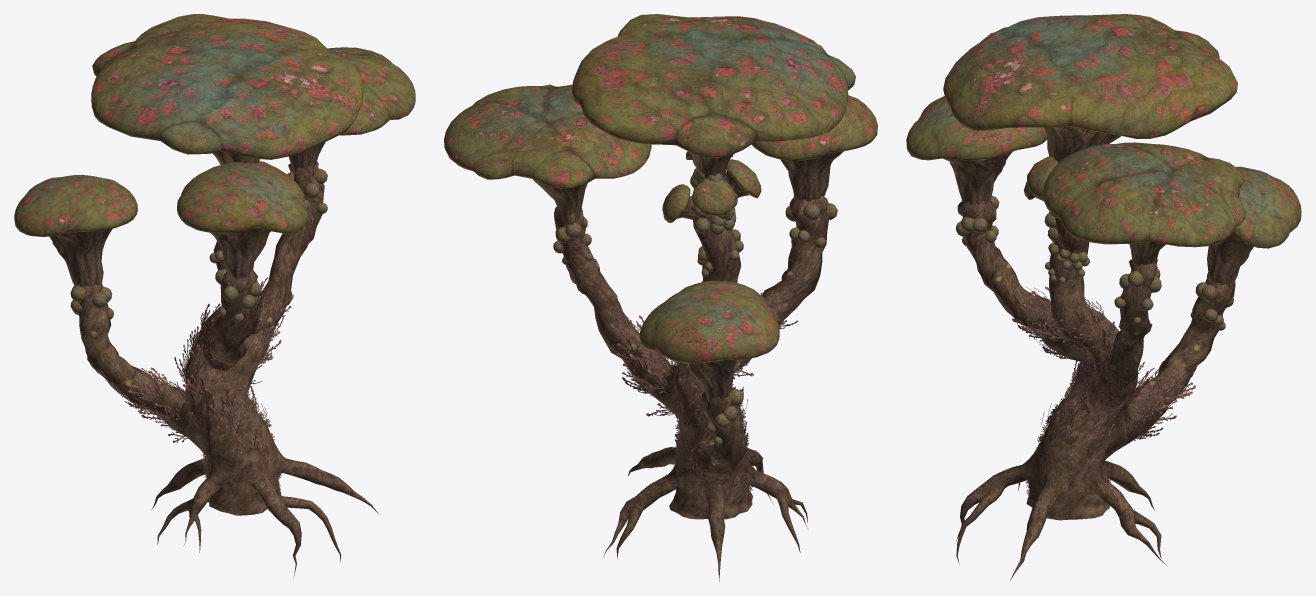
File: Tree - Alien ShroomTree 01 3-p8rUi9j-.glb
The picture shows the model from 3 angles, left to right: view 1: azimuth 30°, elevation 25°; view 2: azimuth 150°, elevation 25°; view 3: azimuth 270°, elevation 25°; orthographic projection. The views are drawn at different scales.
Visible parts, largest first — view 1: Shrooomtree_3(Clone), Shrooomtree_Plants3(Clone); view 2: Shrooomtree_3(Clone), Shrooomtree_Plants3(Clone); view 3: Shrooomtree_3(Clone), Shrooomtree_Plants3(Clone).
Boxes of the visible parts, x1,y1,x2,y2 form: Shrooomtree_3(Clone): (14, 14, 415, 578); Shrooomtree_Plants3(Clone): (121, 277, 293, 497); Shrooomtree_3(Clone): (444, 14, 877, 581); Shrooomtree_Plants3(Clone): (608, 292, 797, 503); Shrooomtree_3(Clone): (906, 14, 1301, 580); Shrooomtree_Plants3(Clone): (1006, 286, 1195, 498).
Bounding box in the file's own units: 8.02 × 10.98 × 7.88.
Materials: 4 (4 with a texture image).
